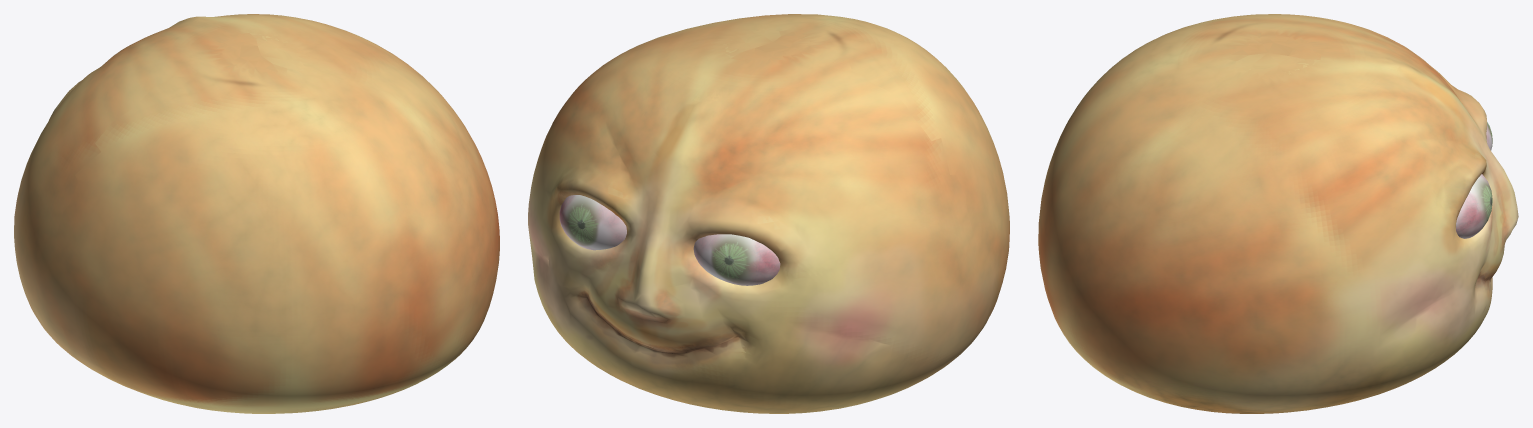
Rendered from thing.fbx.
3 renders of one model, left to right at view 1: azimuth 30°, elevation 25°; view 2: azimuth 150°, elevation 25°; view 3: azimuth 270°, elevation 25°, orthographic. The views are drawn at different scales.
Parts seen in each view (by area): view 1: Body; view 2: Body, Eyes; view 3: Body, Eyes.
Boxes of the visible parts, <box> form: Body: <box>14,14,499,413</box>; Body: <box>528,14,1009,413</box>; Eyes: <box>559,195,780,285</box>; Body: <box>1038,14,1518,413</box>; Eyes: <box>1456,122,1492,238</box>.
Size of the model in its own units: 200 by 145 by 203.
